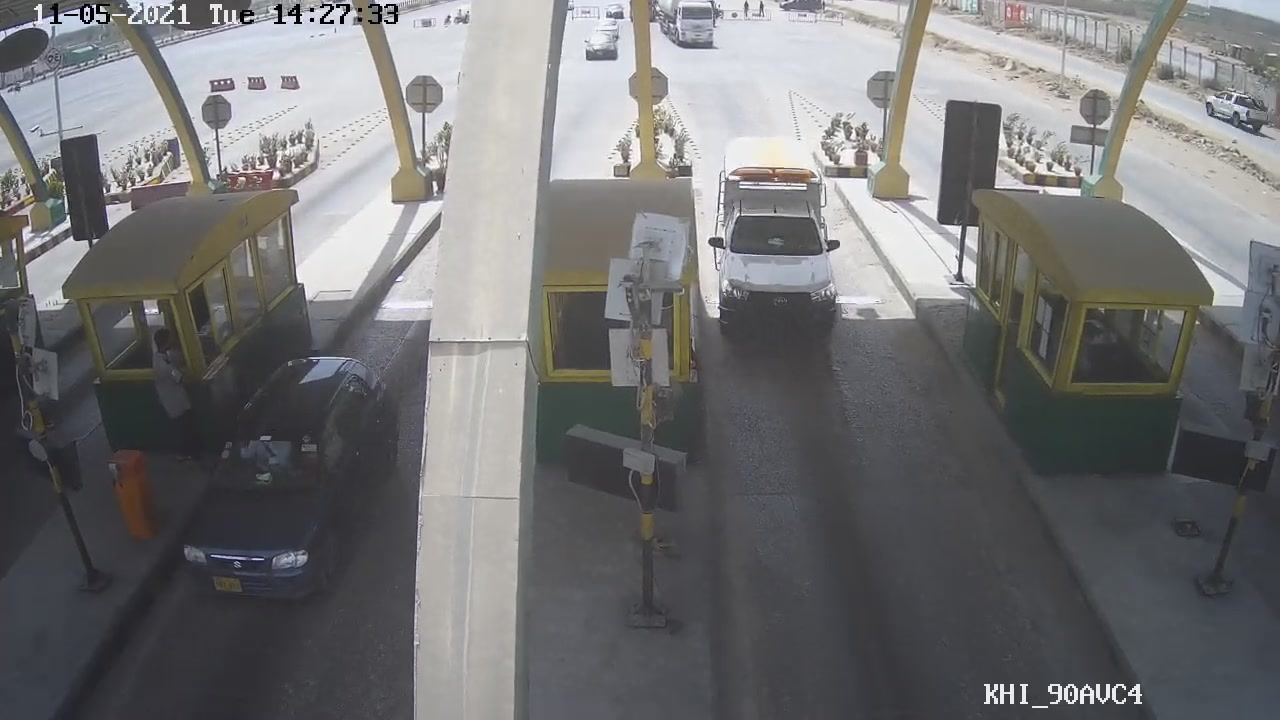F1: (705, 150, 848, 343)
